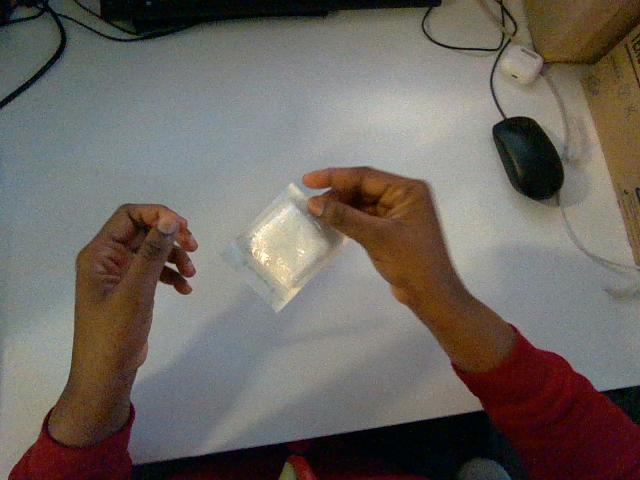gauze: (229, 184, 347, 311)
